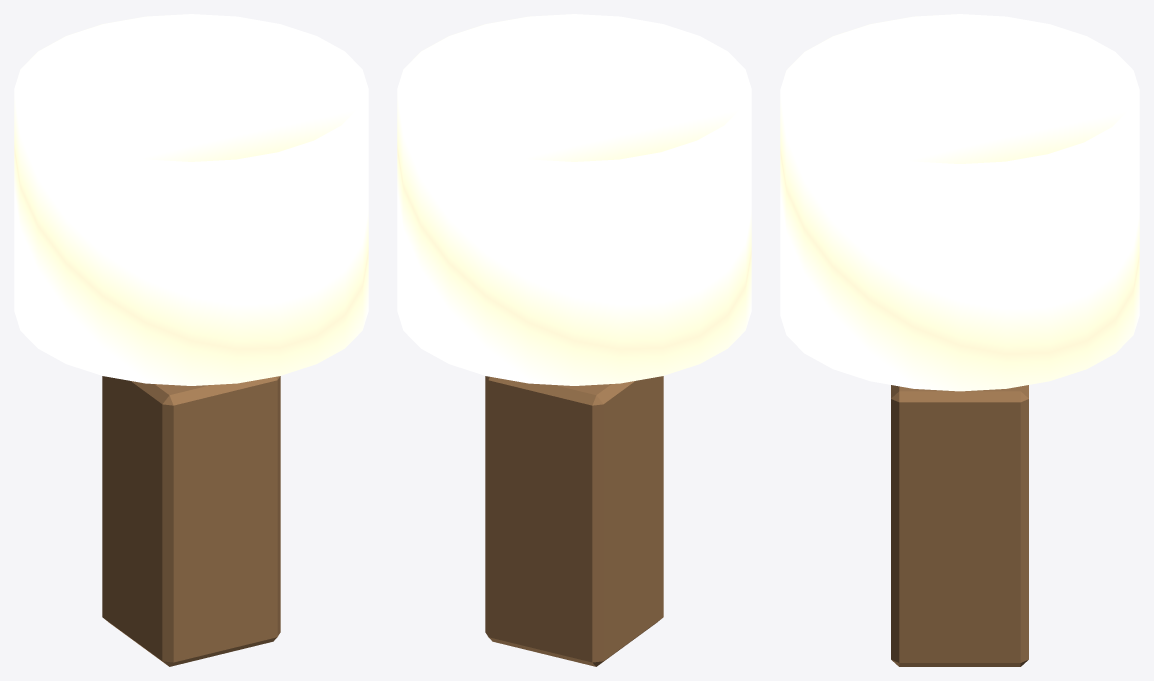
Rendered from i_tlamp_3.glb.
3 views of the same model, side by side, from view 1: azimuth 30°, elevation 25°; view 2: azimuth 150°, elevation 25°; view 3: azimuth 270°, elevation 25° (orthographic).
Visible parts, largest first — view 1: o.002, o; view 2: o.002, o; view 3: o.002, o.
Part boxes in pixels (left/top/right/bottom): o.002: left=14, top=14, right=368, bottom=385; o: left=102, top=376, right=280, bottom=666; o.002: left=397, top=14, right=751, bottom=385; o: left=485, top=376, right=663, bottom=666; o.002: left=780, top=14, right=1139, bottom=391; o: left=891, top=385, right=1028, bottom=666.
Size of the model in its own units: 0.26 by 0.44 by 0.26.
